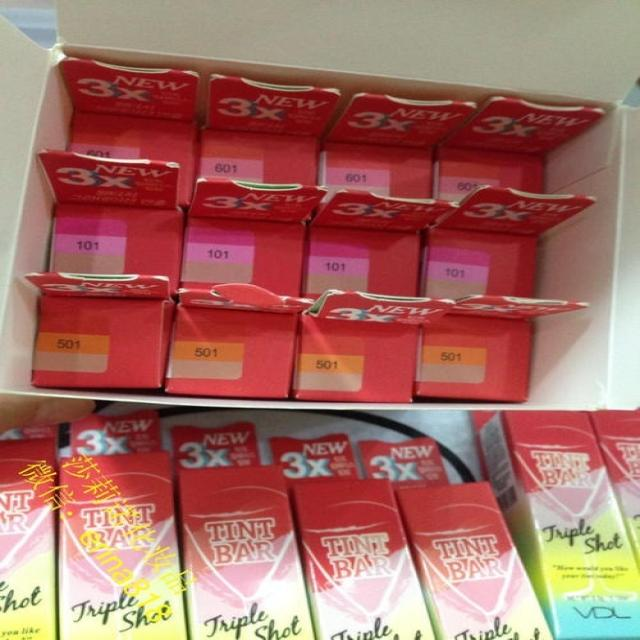box: (0, 1, 639, 412), (360, 436, 556, 638), (466, 411, 638, 638), (270, 432, 438, 637), (57, 409, 191, 639), (174, 422, 316, 639), (40, 146, 185, 288), (61, 59, 200, 206), (428, 185, 598, 301), (313, 94, 477, 214), (294, 283, 452, 398), (418, 295, 586, 402), (439, 97, 606, 204), (29, 274, 177, 389), (168, 280, 313, 397), (185, 176, 326, 296), (198, 74, 339, 185), (309, 188, 452, 297), (0, 426, 59, 638), (592, 409, 639, 560)
